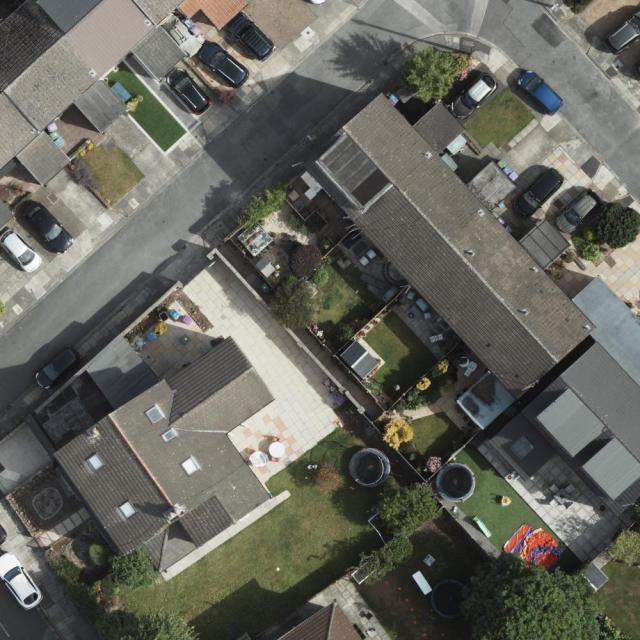roof: (298, 88, 640, 517), (52, 332, 277, 579), (0, 0, 255, 187)
skylight: (143, 398, 173, 427), (115, 494, 142, 523), (177, 451, 202, 480), (157, 424, 182, 448), (83, 449, 106, 473)
